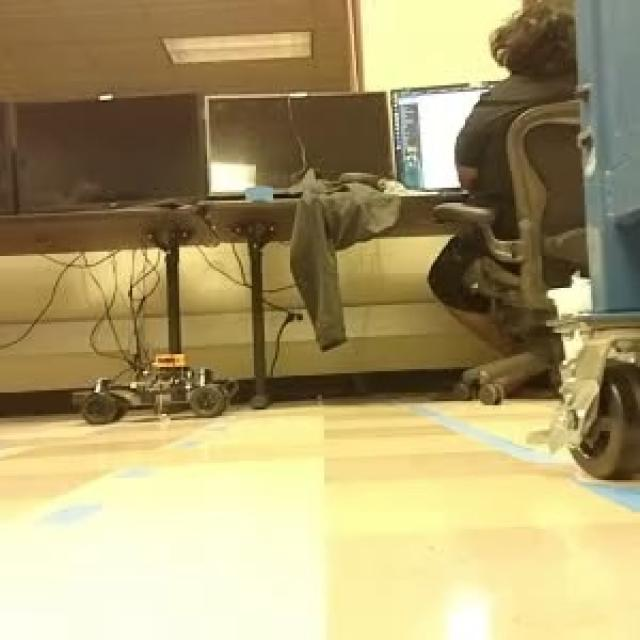obstacle: (85, 354, 228, 425)
